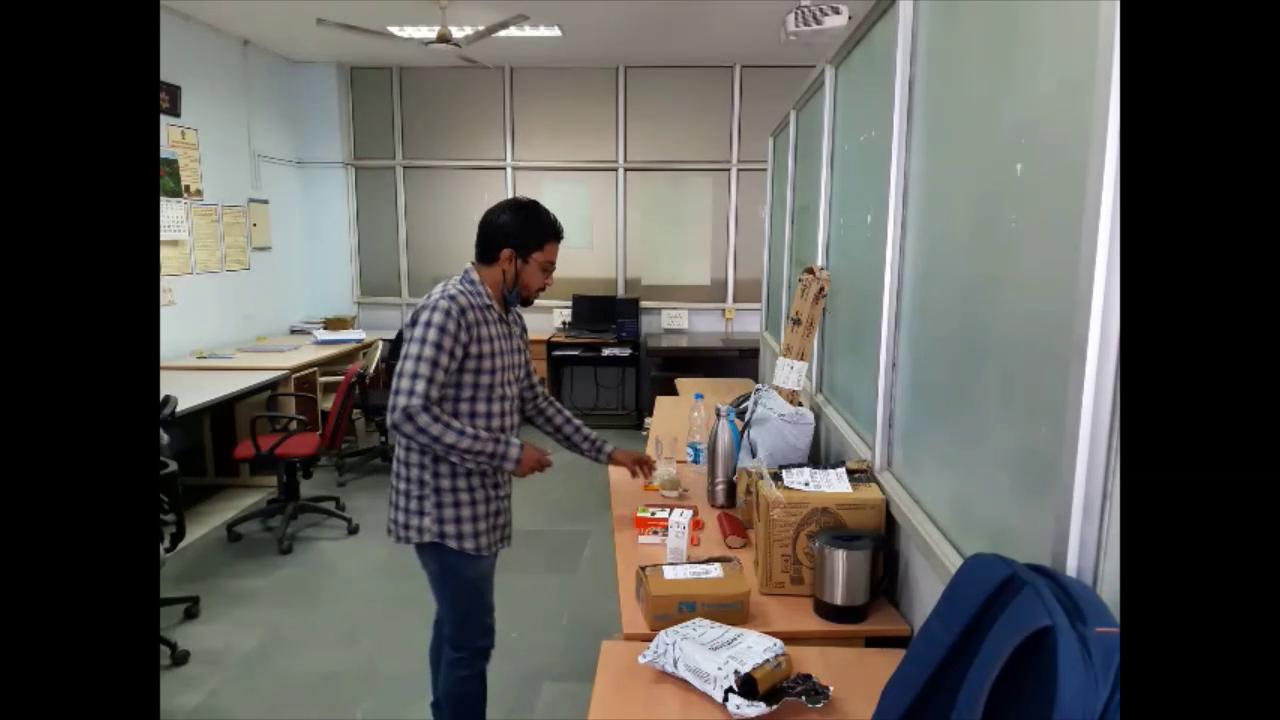Normal: (381, 194, 682, 720)
